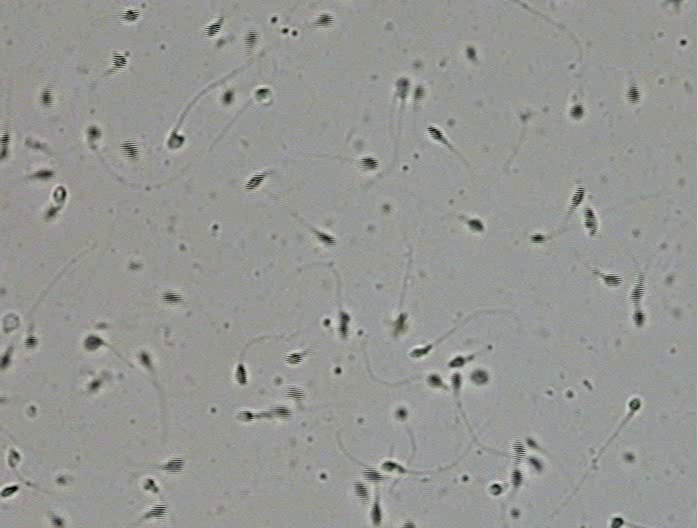S: (630, 272, 645, 305), (584, 207, 598, 236), (512, 439, 526, 465), (337, 312, 351, 338), (163, 458, 185, 474), (361, 467, 383, 483), (145, 505, 168, 520), (120, 140, 138, 159), (352, 481, 369, 501), (394, 78, 410, 99), (393, 313, 408, 335), (571, 186, 585, 208), (316, 232, 336, 247), (268, 405, 291, 418), (369, 503, 382, 526), (409, 345, 432, 358), (161, 290, 182, 304), (602, 273, 623, 287), (167, 132, 185, 148), (235, 363, 248, 385), (1, 132, 11, 160), (626, 86, 641, 104), (245, 175, 264, 189), (143, 478, 159, 494), (471, 369, 488, 384), (427, 126, 444, 141), (245, 29, 258, 48), (40, 88, 53, 107), (510, 469, 523, 488), (360, 157, 379, 170), (112, 53, 128, 68), (84, 335, 100, 350), (468, 218, 484, 233), (122, 9, 140, 22), (286, 387, 304, 400), (1, 484, 19, 497), (316, 13, 334, 26), (53, 186, 66, 204), (569, 104, 584, 119), (205, 22, 221, 36), (632, 310, 645, 327), (285, 353, 303, 365), (34, 170, 55, 180), (529, 456, 543, 471), (138, 351, 151, 367), (8, 450, 20, 467), (450, 373, 462, 390), (448, 356, 465, 368), (237, 411, 255, 422), (24, 335, 38, 349), (488, 483, 503, 496), (427, 374, 442, 387), (255, 88, 271, 100), (87, 126, 101, 139), (50, 516, 65, 528), (413, 85, 425, 100), (529, 233, 545, 244), (628, 398, 641, 411), (222, 90, 233, 105), (382, 461, 398, 471), (88, 380, 101, 392), (395, 408, 407, 420), (47, 206, 58, 218), (525, 437, 537, 448), (466, 47, 476, 60), (1, 354, 10, 368), (611, 517, 623, 527), (402, 521, 415, 528)
